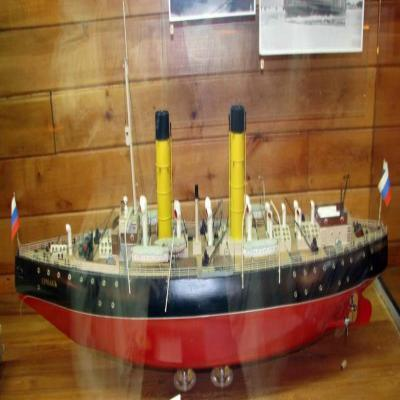other: (11, 105, 390, 395)
